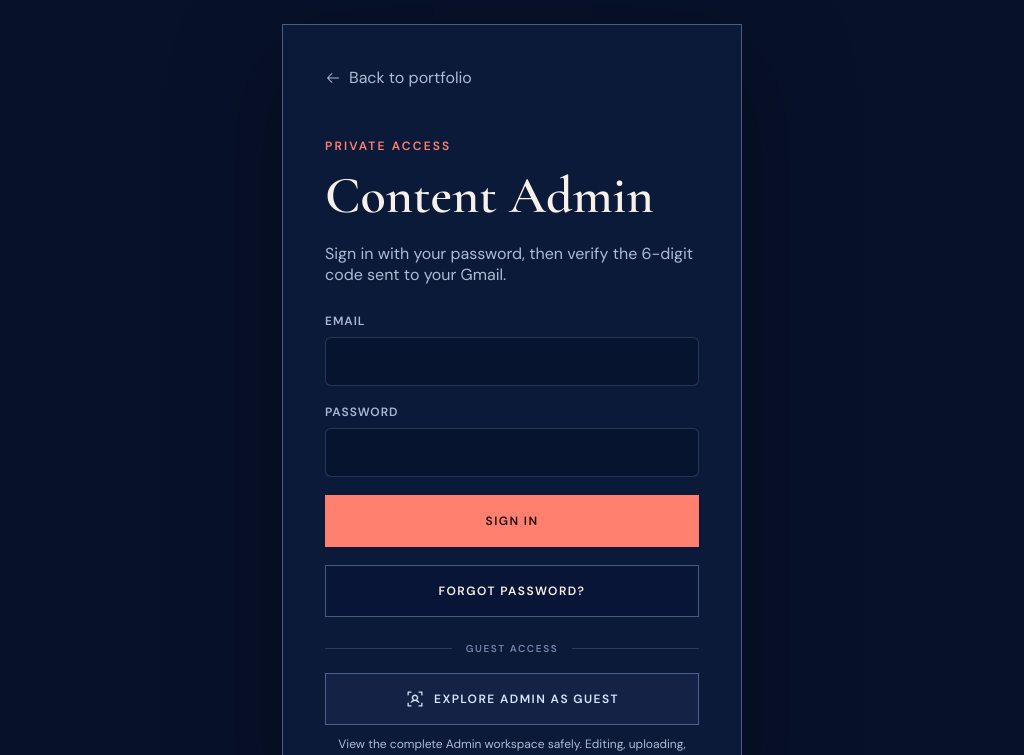
Admin authentication and editing › requires password and then verifies the six-digit email OTP
The width and height of the screenshot is (1024, 755).
Type "admin@example.com" into the field labelled "Email". click: (512, 362)
box: [325,337,699,386]
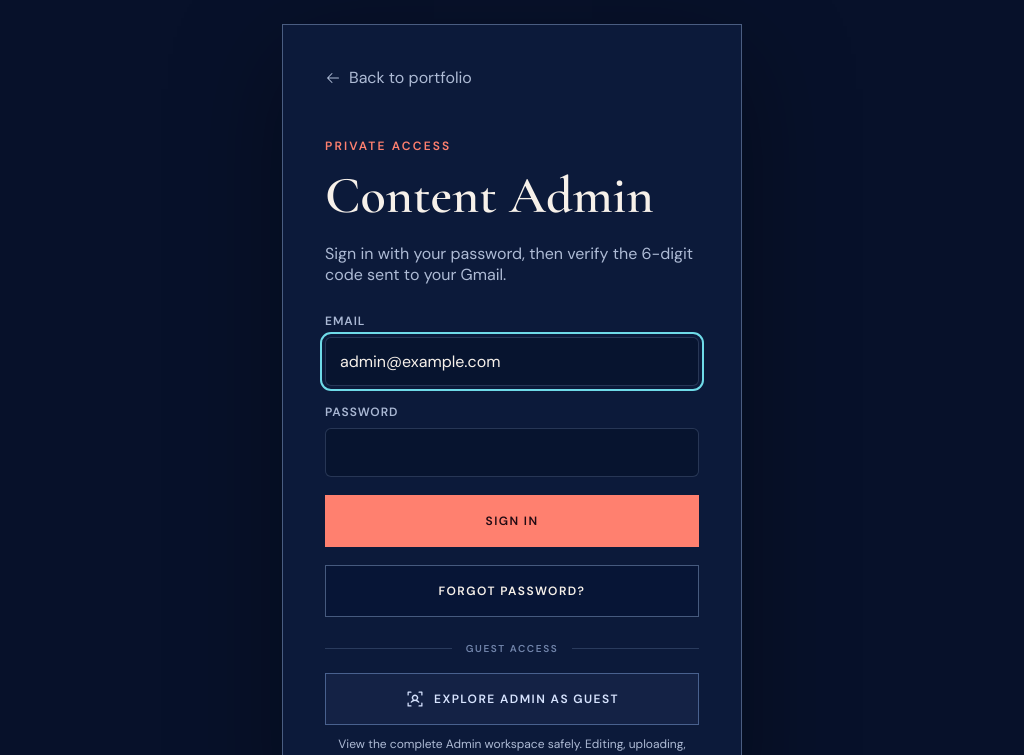
Type "password123" into the password field labelled "Password". click: (512, 452)
box: [325,428,699,477]
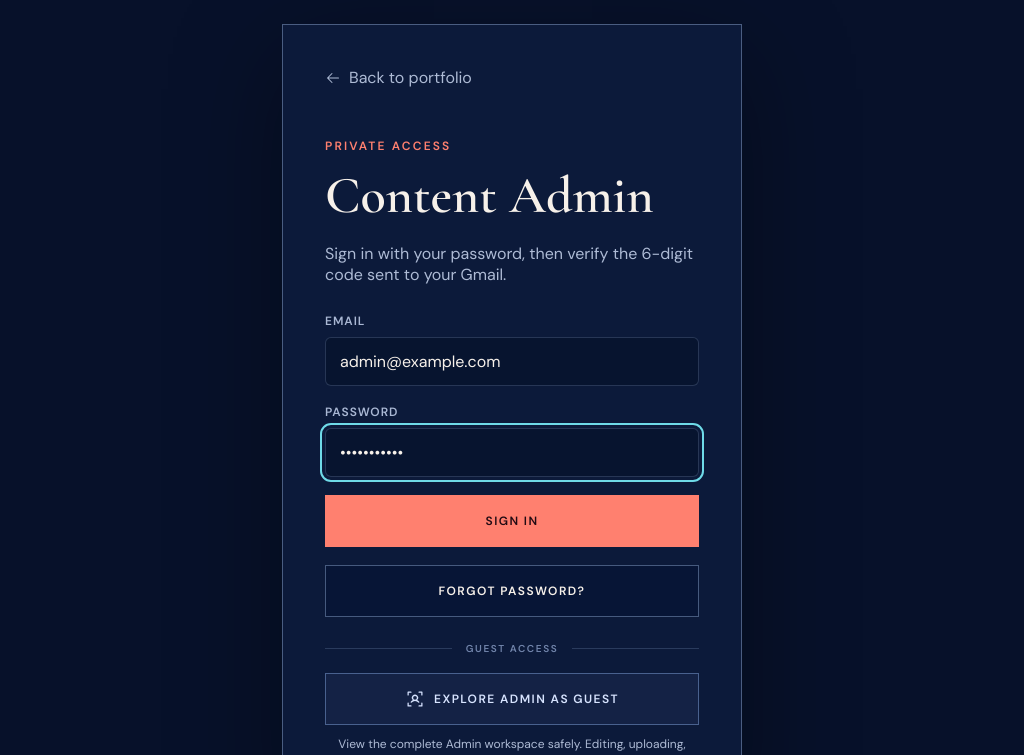
Click the button "Sign in". click: (512, 521)
box: [325,495,699,547]
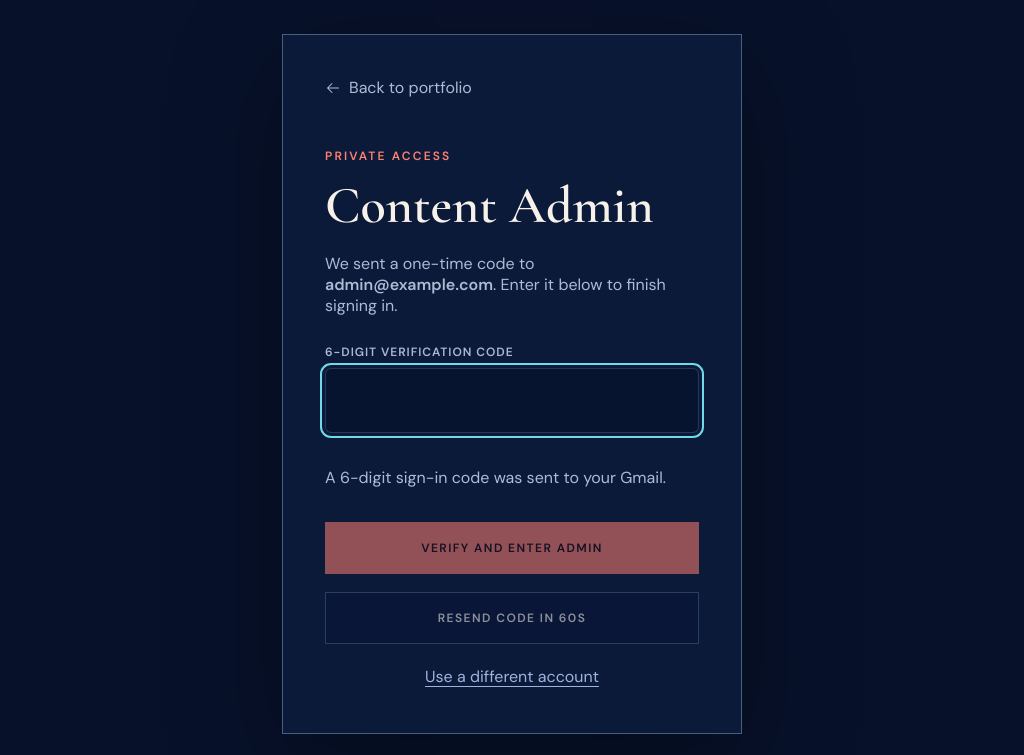
Type "123456" into the field labelled "6-digit verification code". click: (512, 400)
box: [325,368,699,433]
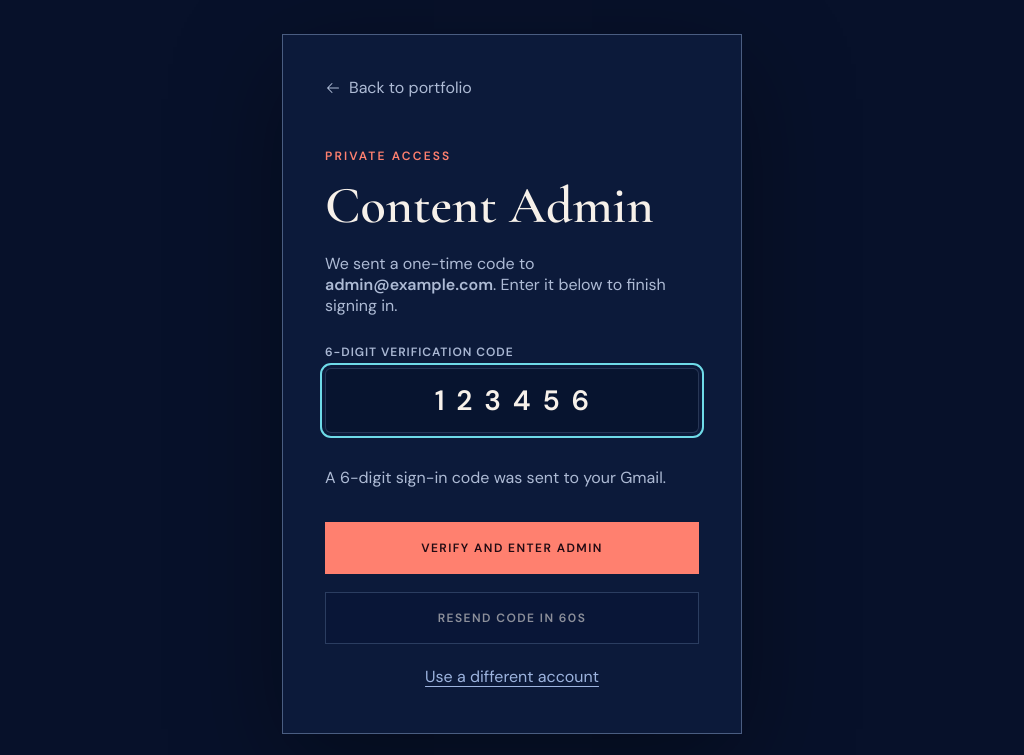
Click the button "Verify and enter Admin". click: (512, 548)
box: [325,522,699,574]
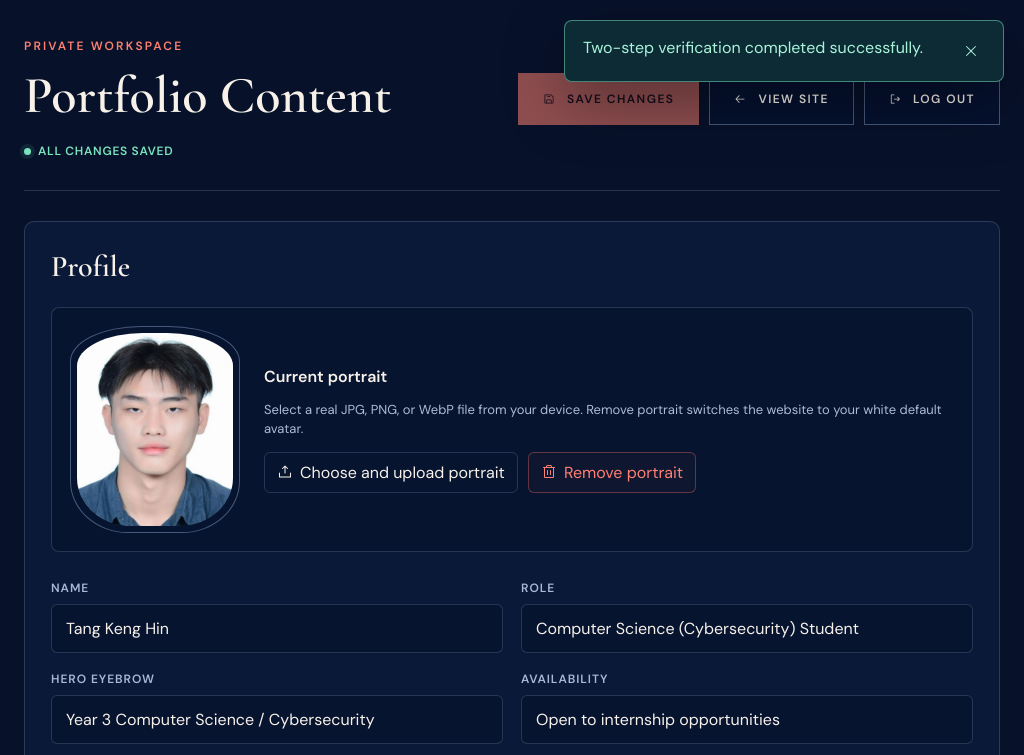
Expected: the heading "Portfolio Content" is shown, [24,64,392,127]
